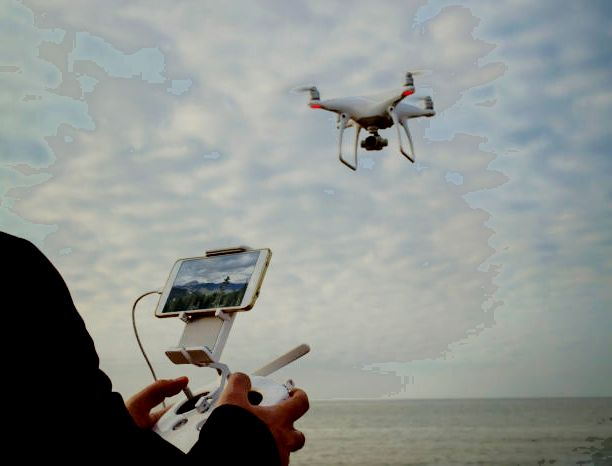Drone: (282, 68, 448, 171)
